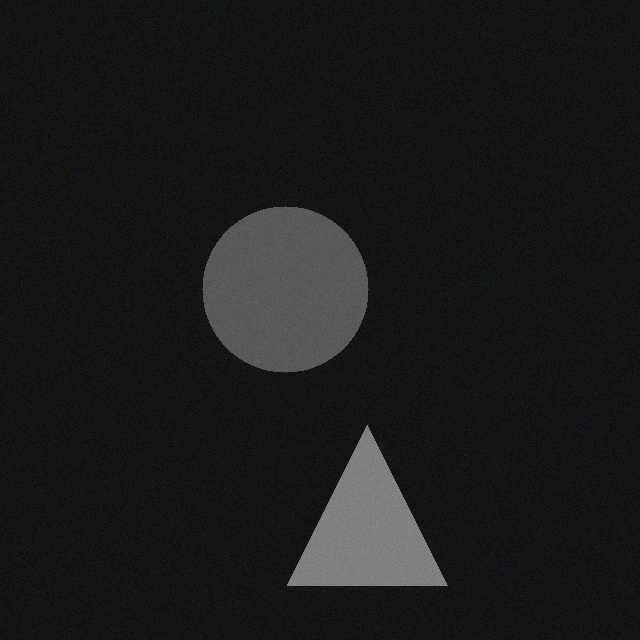circle: (207, 198, 373, 364)
triangle: (292, 417, 452, 577)
